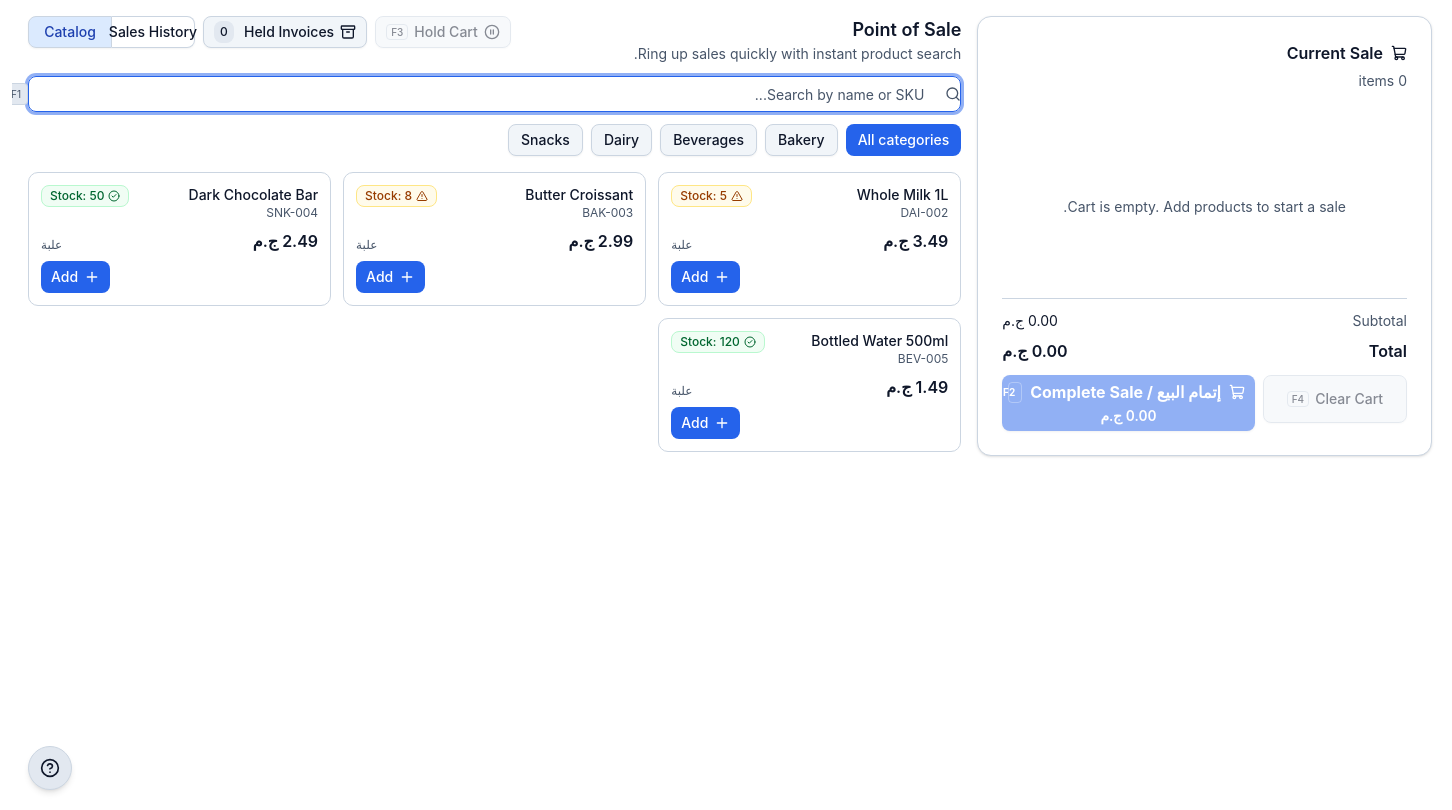
Test: POSScreen › adds products to the cart and shows totals
This screenshot has width=1452, height=810.
Click the button "Add" below "2.49 ج.م".
click(76, 277)  # box [41,261,110,293]
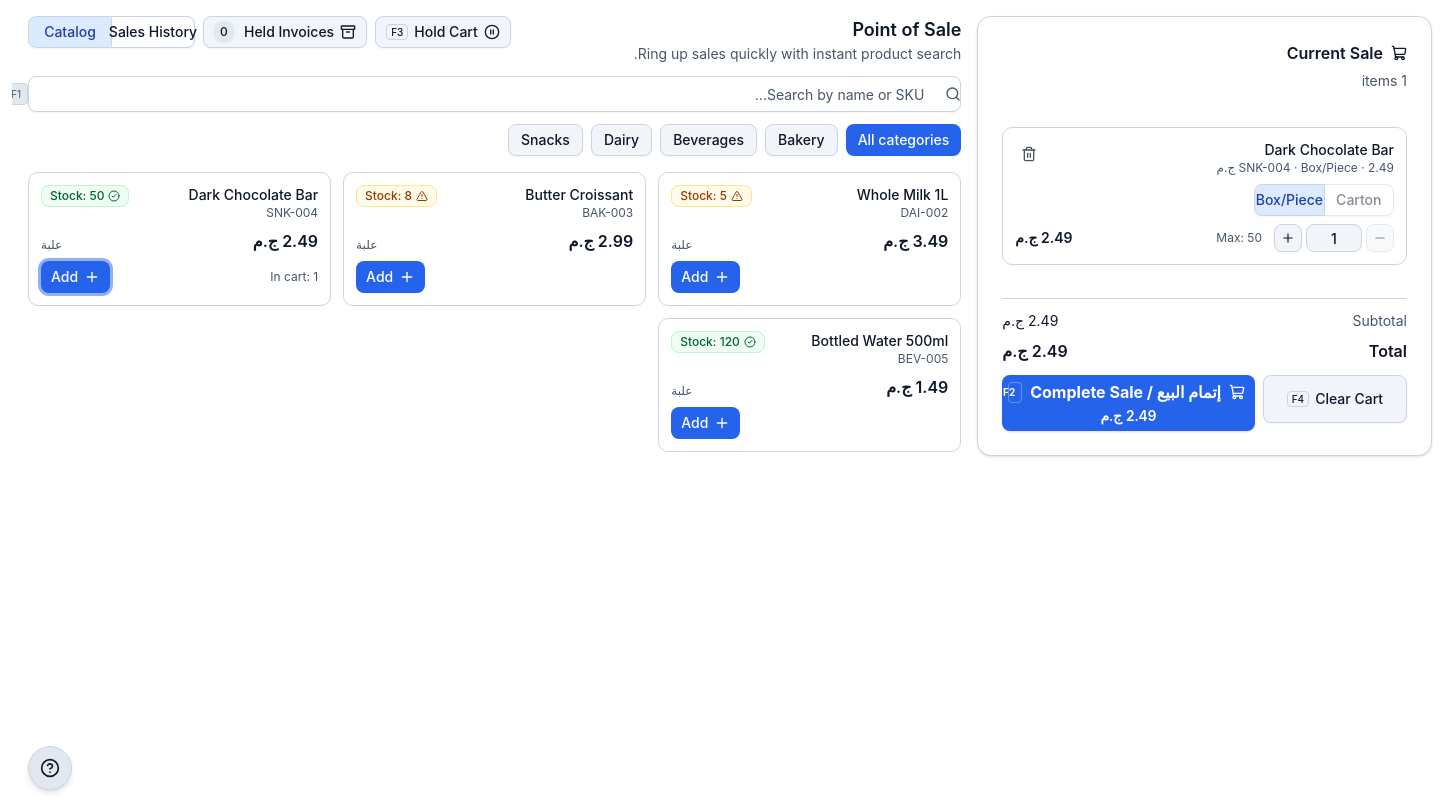
Click the button "Add" in the row of "In cart: 1".
click(76, 277)  # box [41,261,110,293]
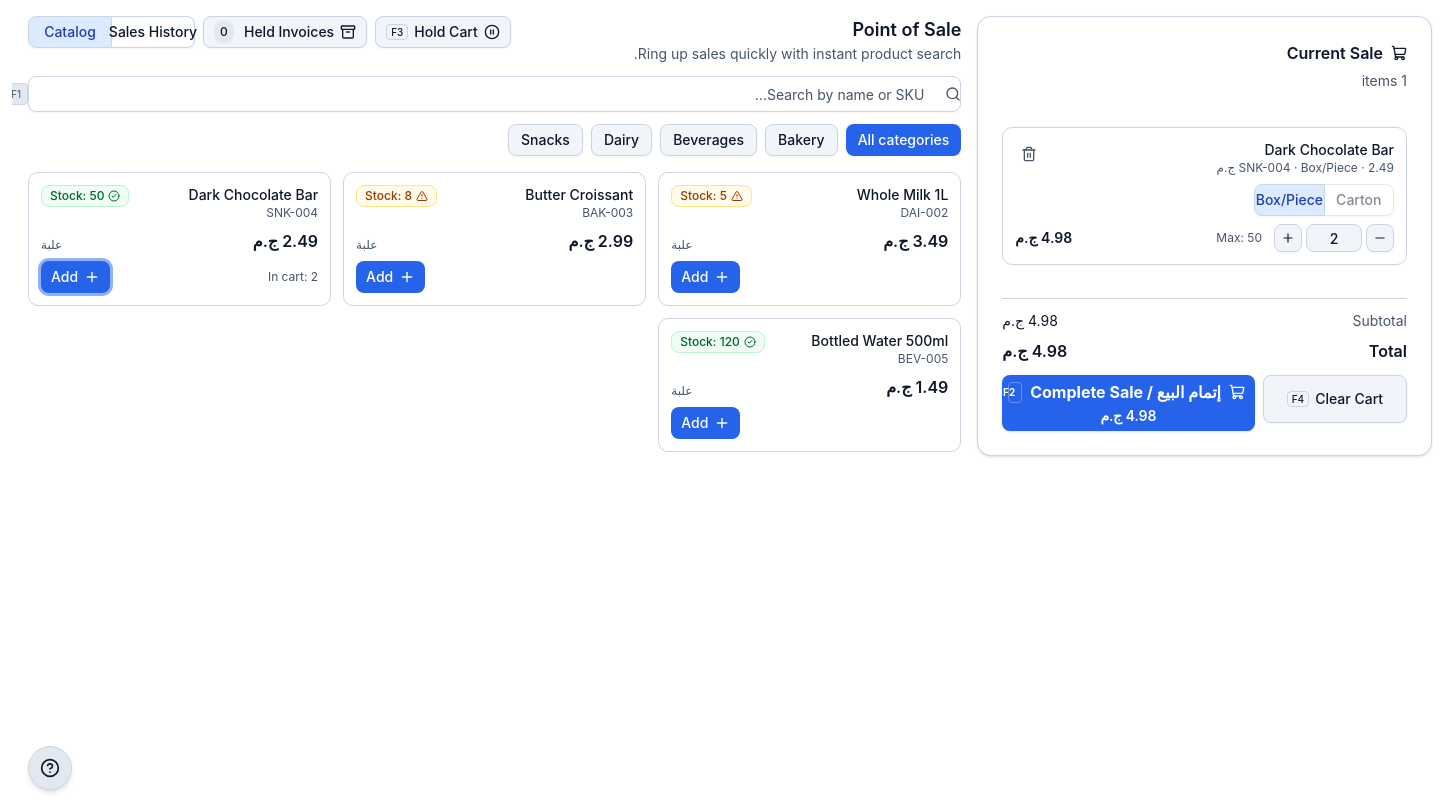
Expected: the text "In cart: 2" is shown, [268,269,318,285]
Expected: the text "4.98 ج.م" next to "Max: 50" is shown, [1015,229,1072,246]
